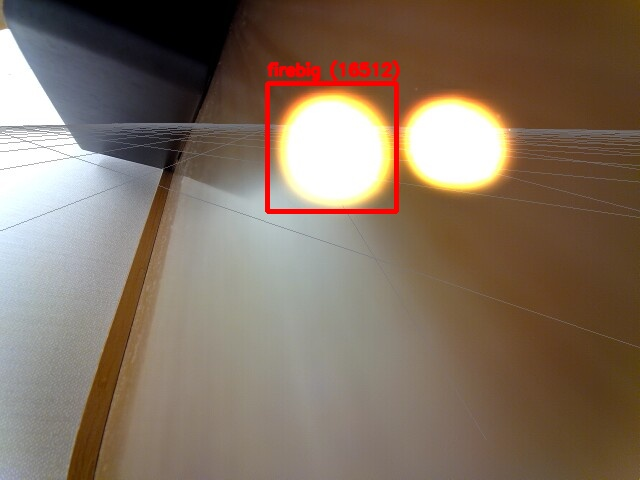firebig: (267, 83, 396, 211)
